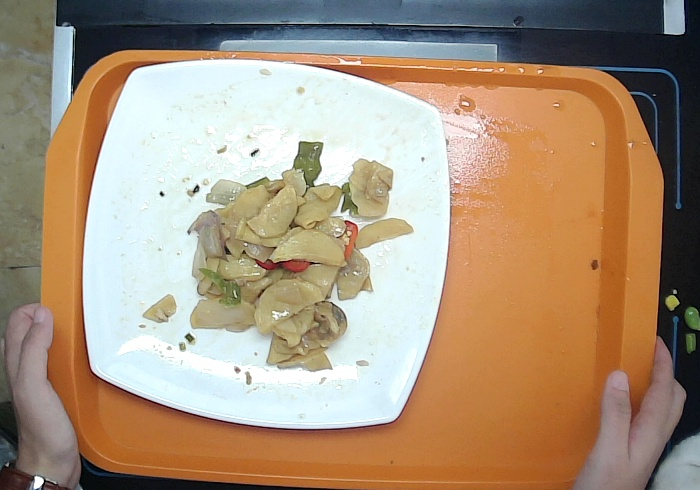ZNLD-Bai_Fang_Pan: (80, 57, 452, 429)
